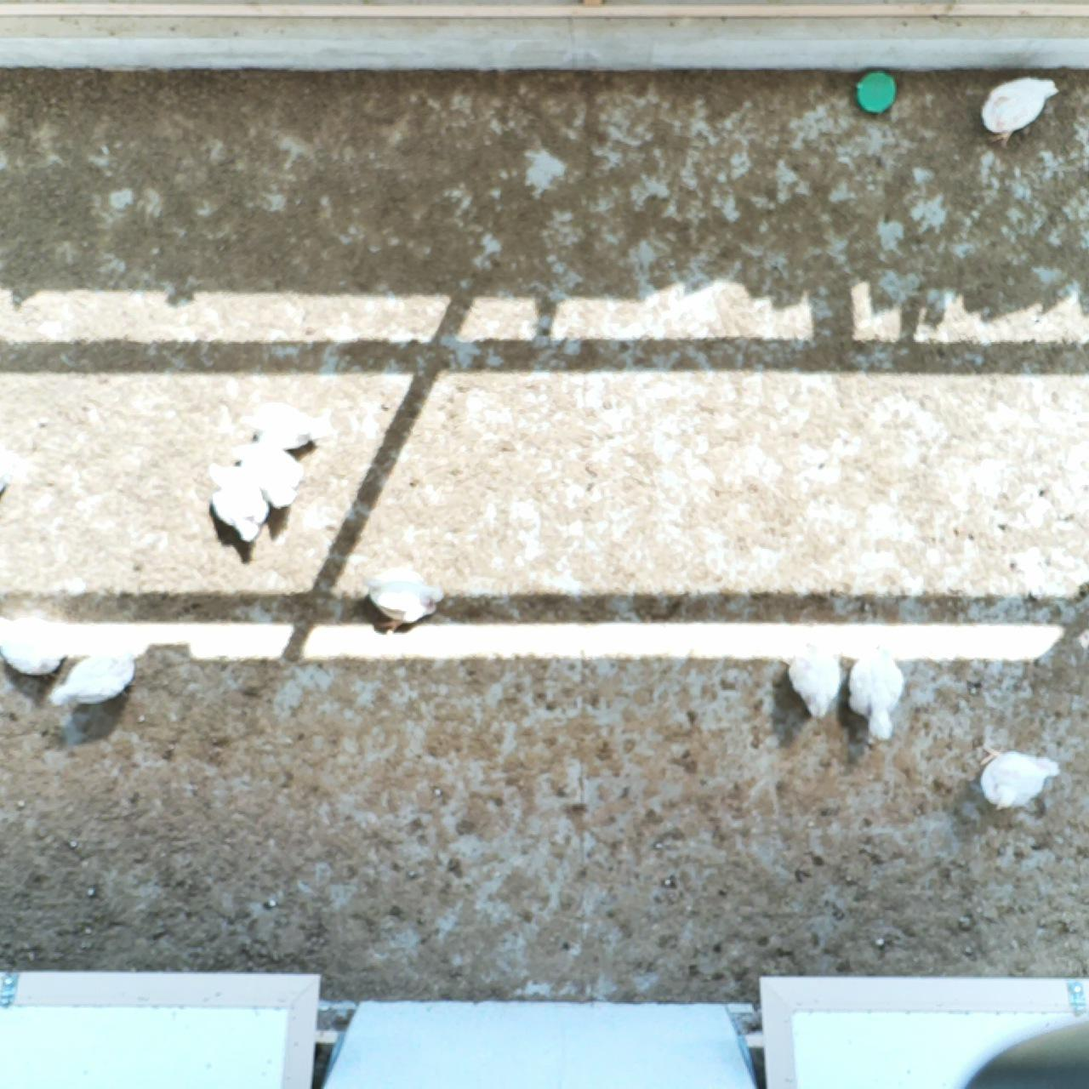chicken: (838, 634, 905, 741), (976, 741, 1063, 815), (981, 72, 1061, 148), (44, 646, 137, 711), (781, 629, 846, 720), (361, 562, 444, 633), (202, 456, 268, 542), (230, 438, 303, 509), (240, 399, 330, 452), (0, 610, 67, 678), (0, 437, 10, 501)
